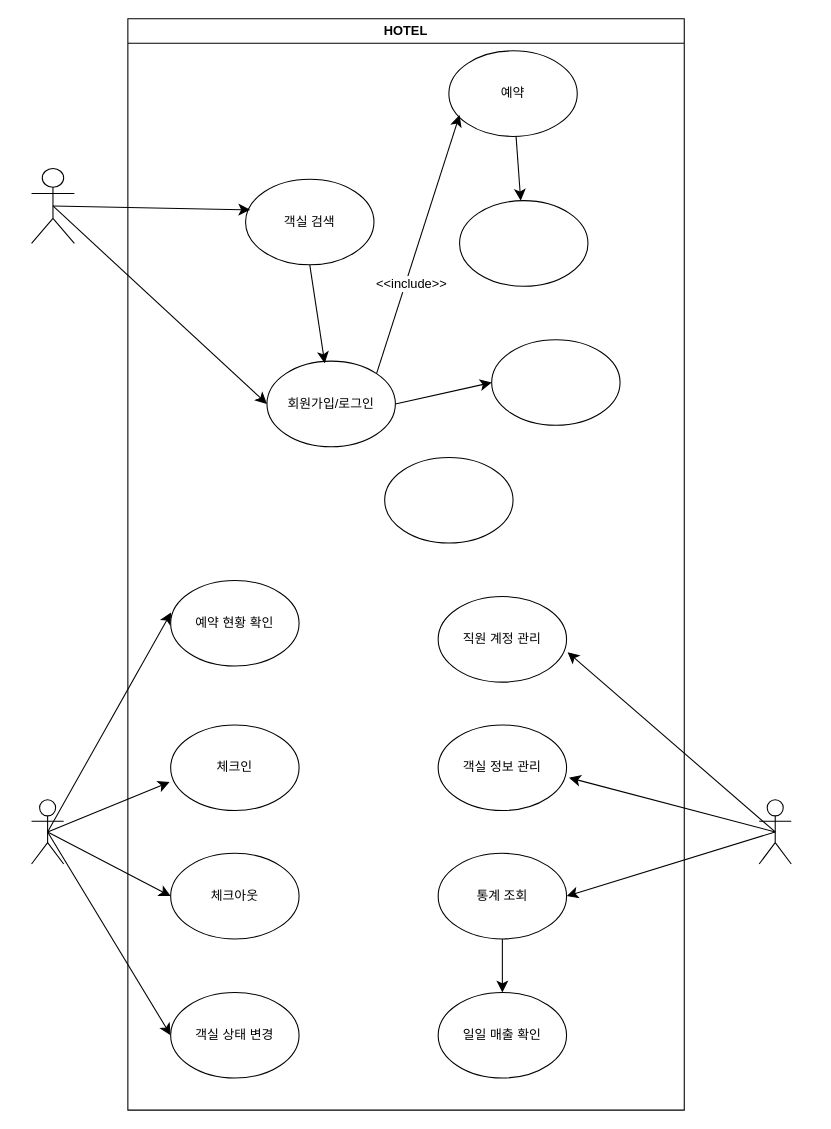
Image size: 831x1129. Some labels were removed from this diagram. Each missing label, with the centre of its shape:
"Administrator" belongs at (x=774, y=831).
"Customer" belongs at (x=52, y=205).
"Reception" belongs at (x=47, y=831).
"결제" belongs at (x=523, y=243).
"숙박 연장" belongs at (x=555, y=382).
"예약 취소" belongs at (x=448, y=499).
